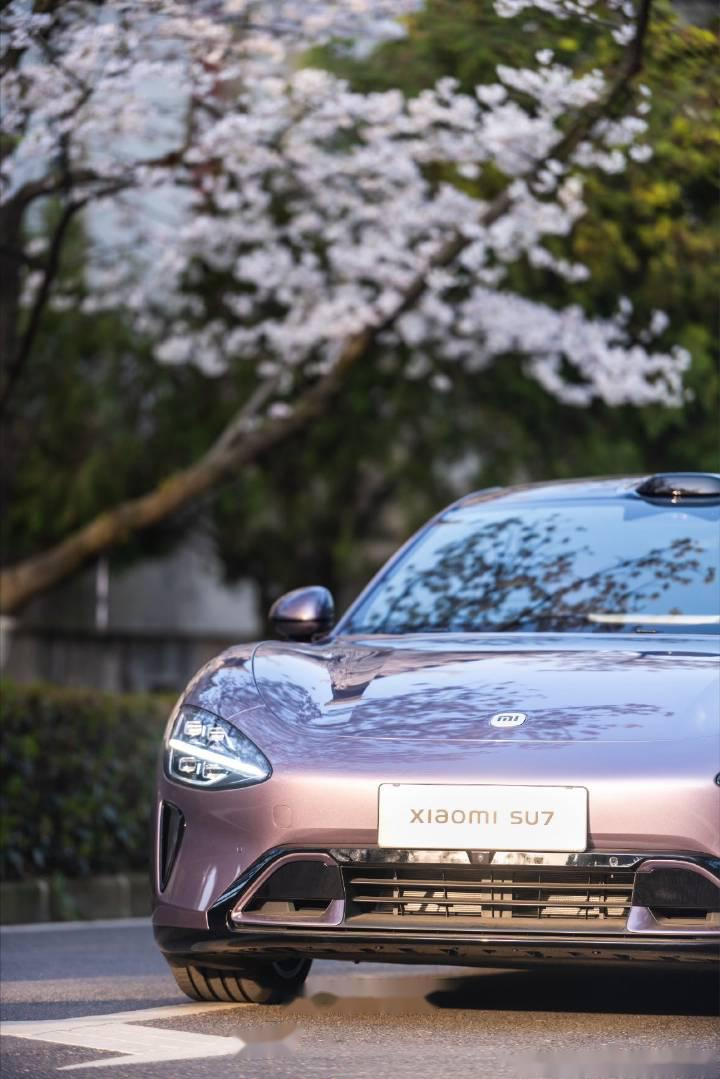su7: (166, 461, 720, 1009)
